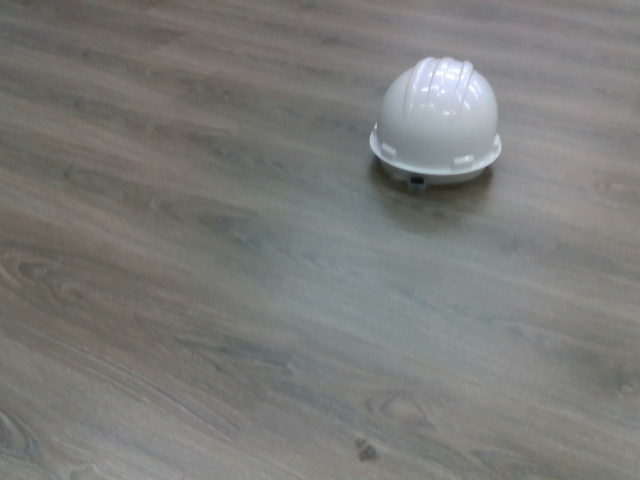helmet: (368, 53, 503, 192)
